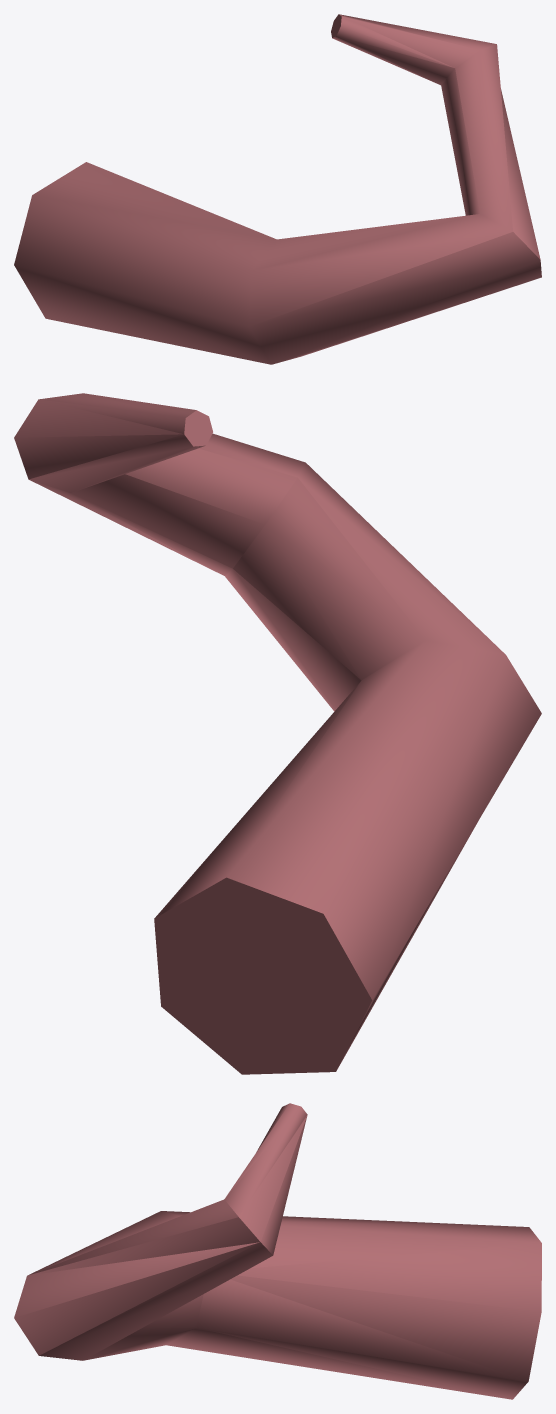
File: chimera_b_tail.obj
3 renders of one model, top to bottom at view 1: azimuth 30°, elevation 25°; view 2: azimuth 150°, elevation 25°; view 3: azimuth 270°, elevation 25°, orthographic. The views are drawn at different scales.
Parts seen in each view (by area): view 1: chimera_b_tail; view 2: chimera_b_tail; view 3: chimera_b_tail.
Boxes of the visible parts, x1,y1,x2,y2 form: chimera_b_tail: (14, 14, 541, 364); chimera_b_tail: (14, 393, 541, 1074); chimera_b_tail: (14, 1103, 541, 1399).
Bounding box in the file's own units: 0.2912 × 0.2638 × 0.344.
